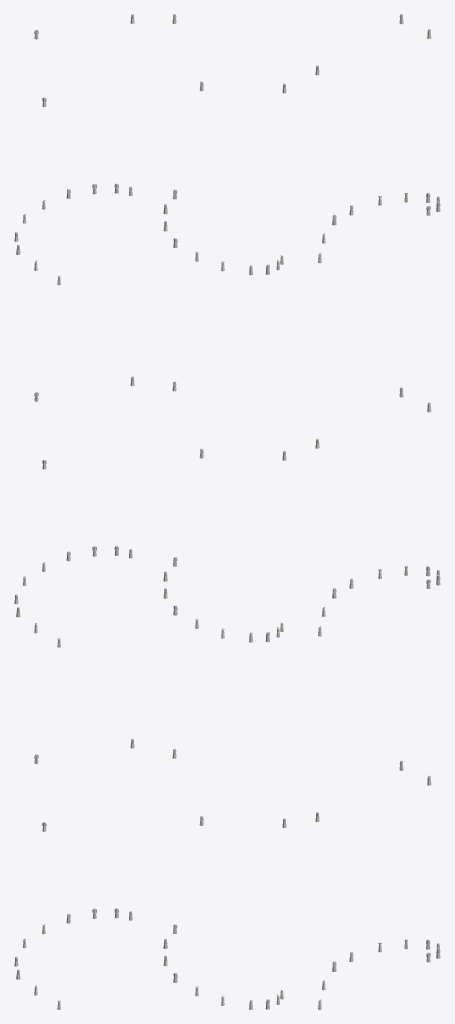
File: Circle1Folk0.obj
3 renders of one model, left to right at view 1: azimuth 30°, elevation 25°; view 2: azimuth 150°, elevation 25°; view 3: azimuth 330°, elevation 25°, orthographic. The views are drawn at different scales.
Visible parts, largest first — view 1: Circle1Folk0; view 2: Circle1Folk0; view 3: Circle1Folk0.
Boxes of the visible parts, x1,y1,x2,y2 form: Circle1Folk0: (14,14,134,1009); Circle1Folk0: (163,14,286,1009); Circle1Folk0: (315,14,440,1009).
Size of the model in its own units: 24.67 by 212 by 21.18.
1 material, 1 textured.
